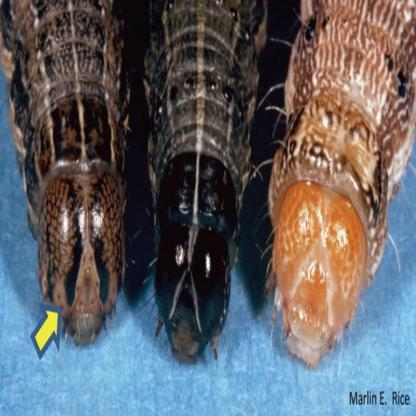armyworm: (262, 0, 416, 366), (139, 0, 273, 368), (0, 0, 135, 354)
